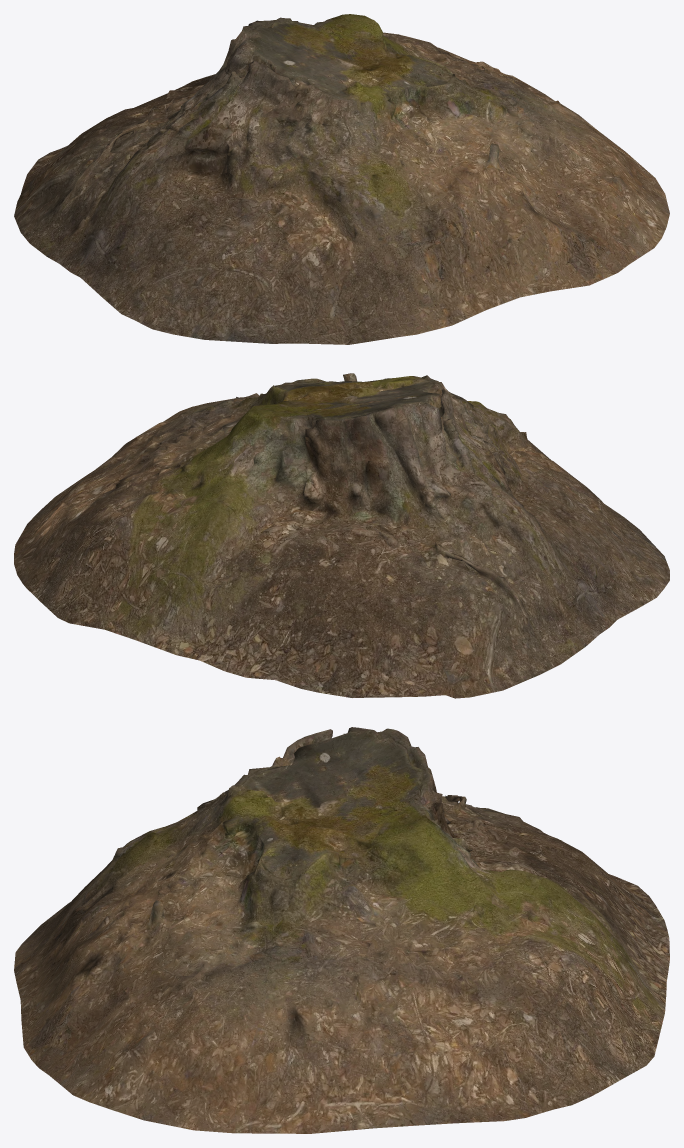
Rendered from tree_stump_02.glb.
3 views of the same model, one above another, from view 1: azimuth 30°, elevation 25°; view 2: azimuth 150°, elevation 25°; view 3: azimuth 270°, elevation 25° (orthographic). The views are drawn at different scales.
Parts seen in each view (by area): view 1: tree_stump_02; view 2: tree_stump_02; view 3: tree_stump_02.
Boxes of the visible parts, <box> form: tree_stump_02: <box>14,14,669,344</box>; tree_stump_02: <box>14,373,669,698</box>; tree_stump_02: <box>14,727,669,1133</box>.
Size of the model in its own units: 1.52 by 0.5214 by 1.39.
Materials: 1 (1 with a texture image).
